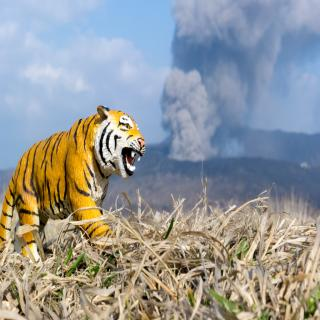Tiger: (0, 102, 146, 266)
